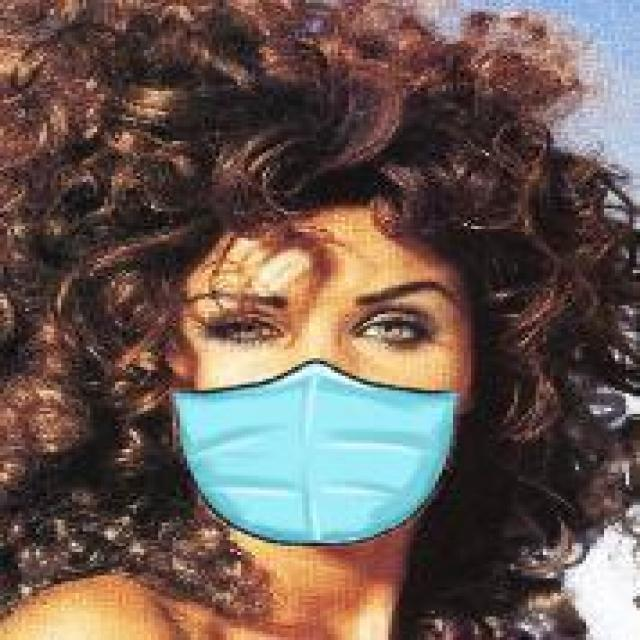mask: (126, 106, 550, 549)
